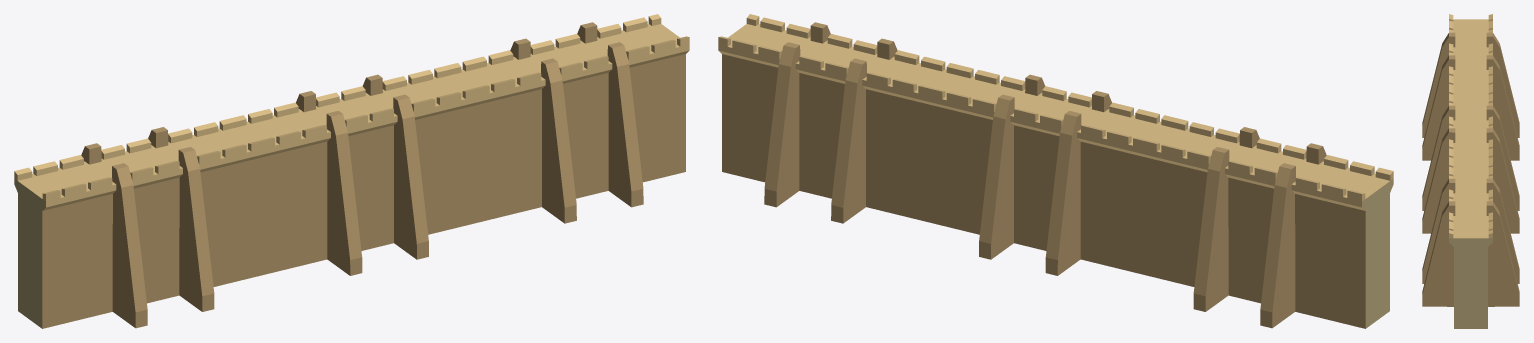
File: Wall long.fbx
3 renders of one model, left to right at view 1: azimuth 30°, elevation 25°; view 2: azimuth 150°, elevation 25°; view 3: azimuth 270°, elevation 25°, orthographic. The views are drawn at different scales.
Visible parts, largest first — view 1: polySurface1; view 2: polySurface1; view 3: polySurface1.
Boxes of the visible parts, x1,y1,x2,y2 form: polySurface1: [14, 14, 689, 328]; polySurface1: [718, 14, 1393, 328]; polySurface1: [1422, 14, 1519, 328].
Bounding box in the file's own units: 4015 × 865 × 755.
1 material, 1 textured.
